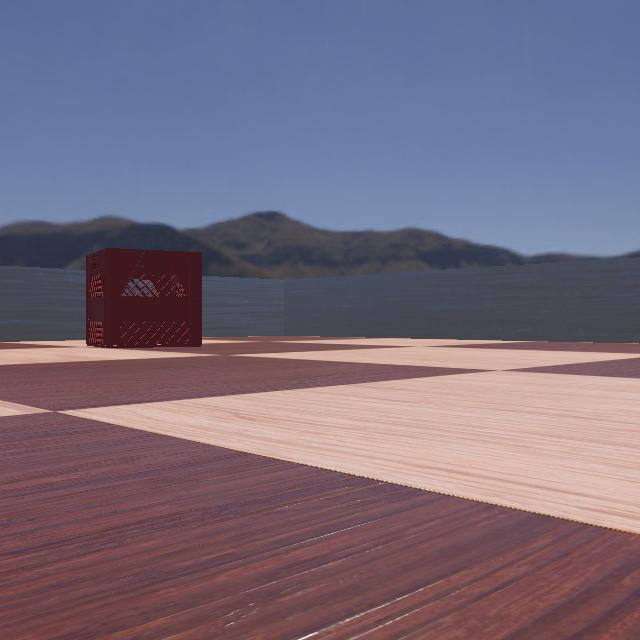plastic-crate: (58, 248, 214, 348)
